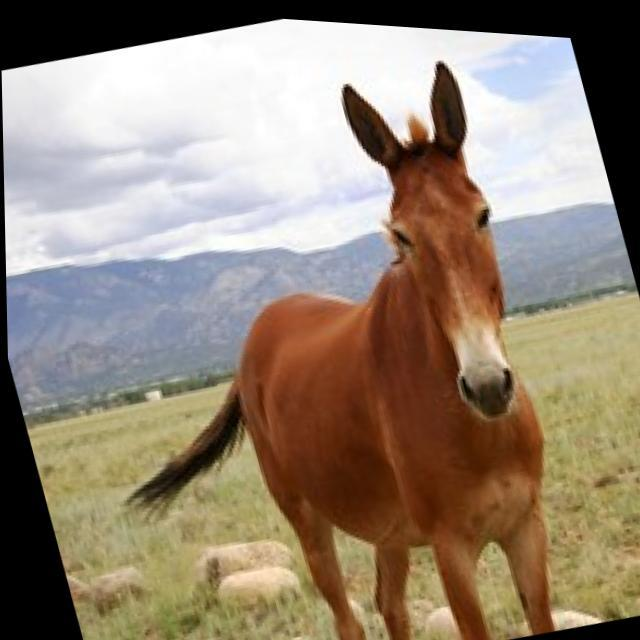Donkey: (15, 1, 640, 640)
